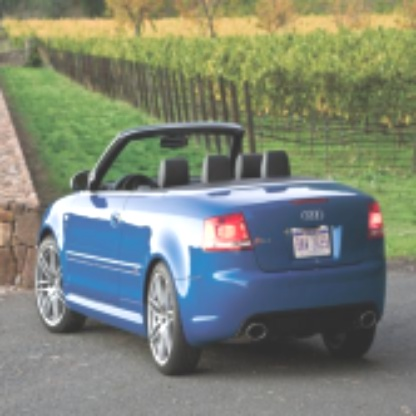Vehicle: (34, 120, 387, 378)
